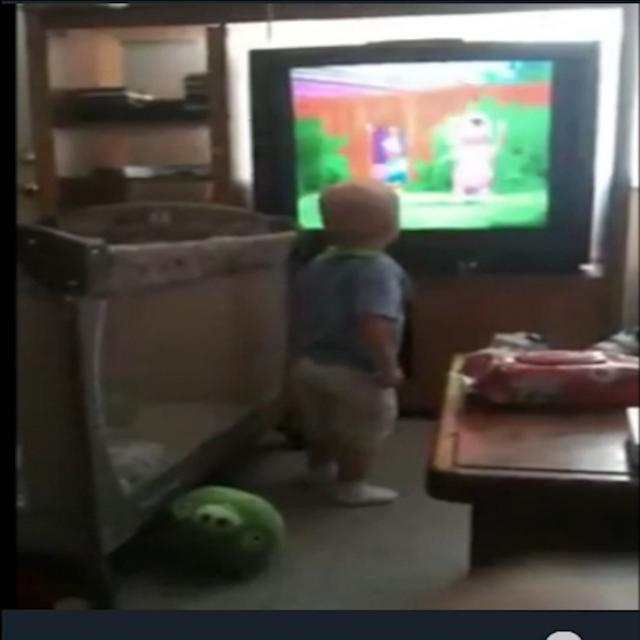child: (275, 179, 423, 501)
